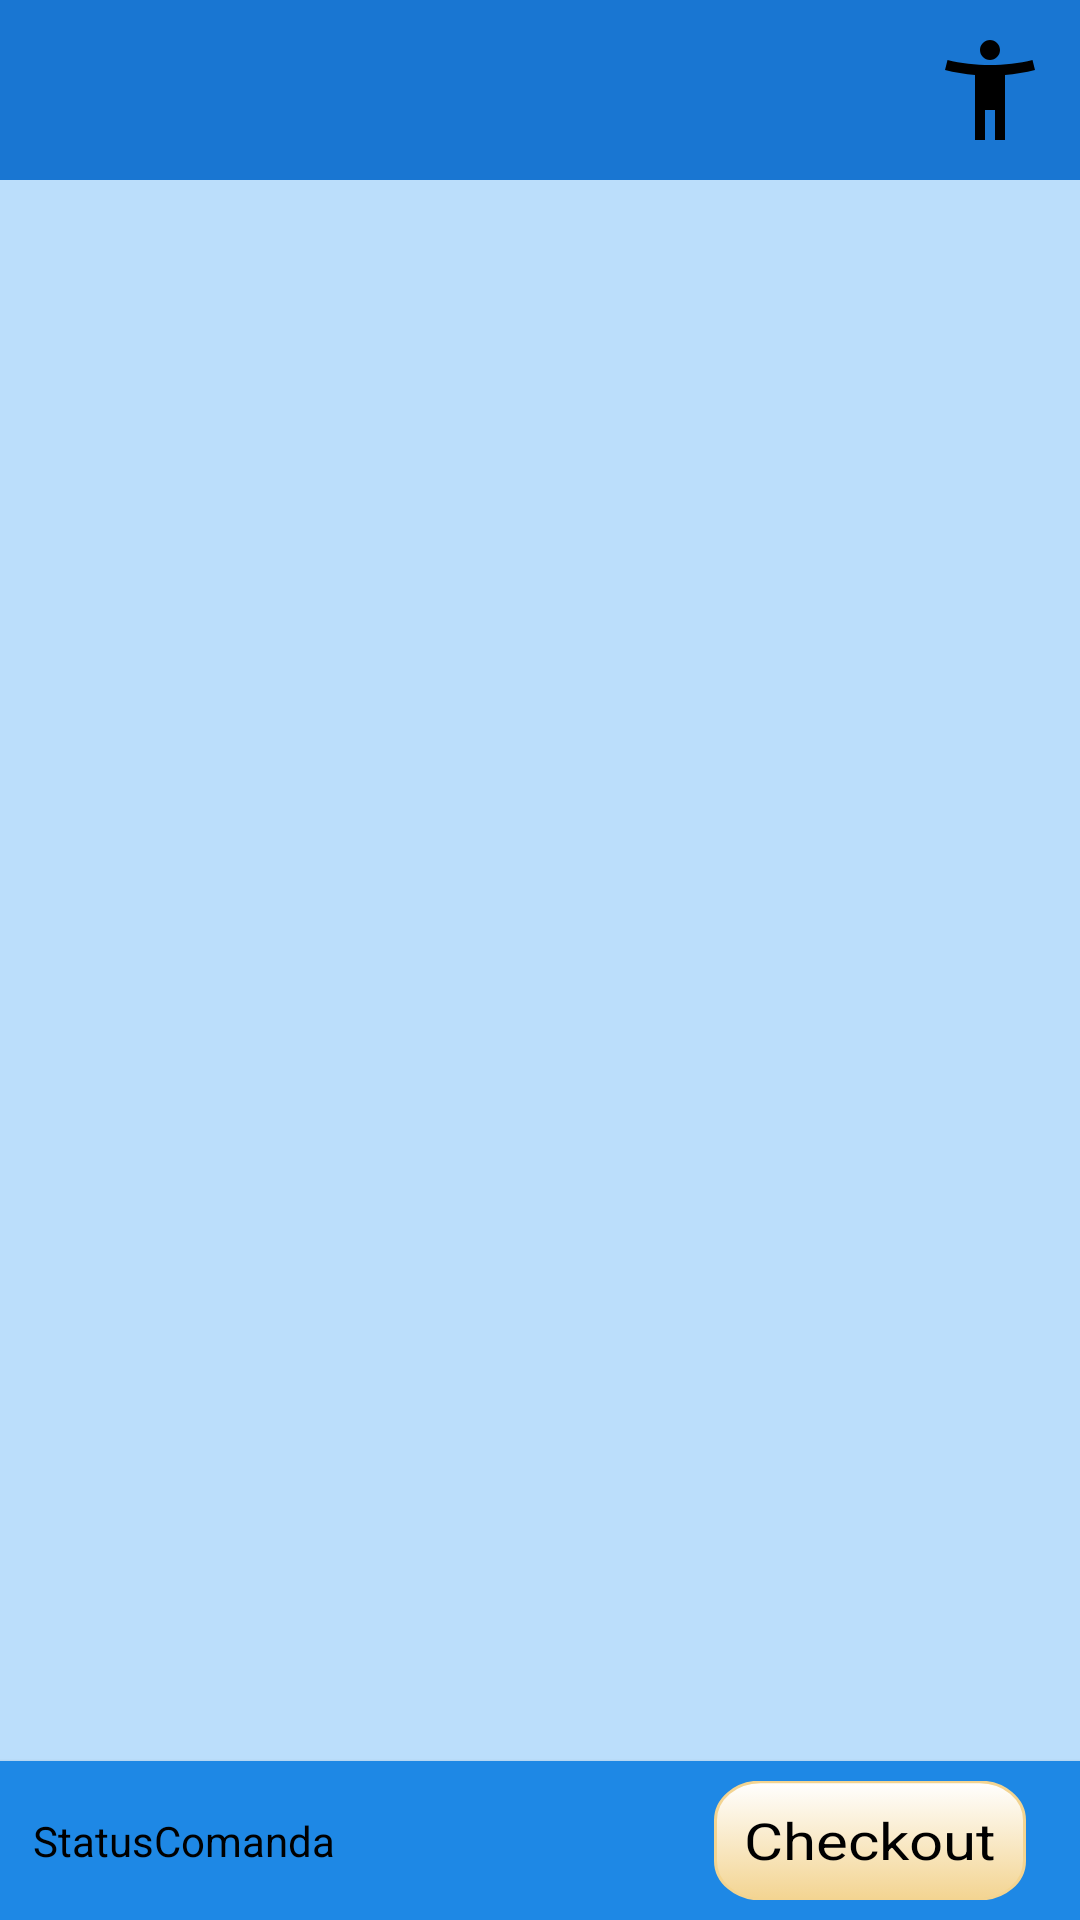

Screen size 1080px×1920px. Icon name, then its box in pixels as (x1, y1, x2, y2):
accessibility: (945, 40, 1035, 140)
